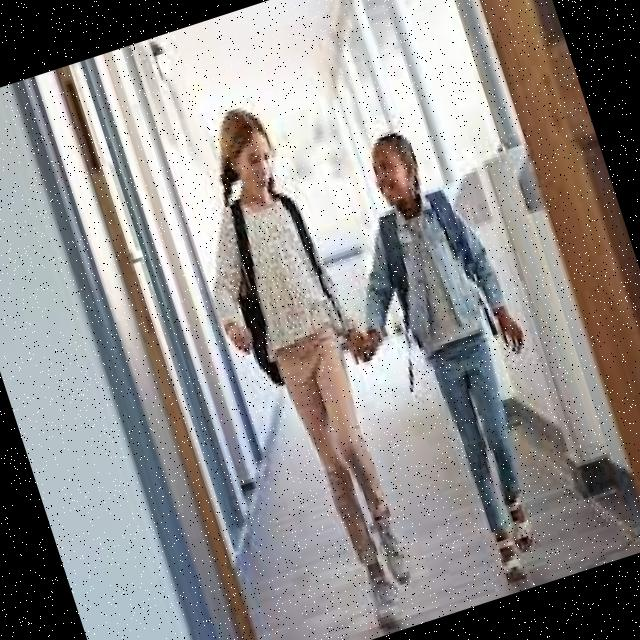Person: (161, 93, 450, 640), (305, 112, 596, 603)
